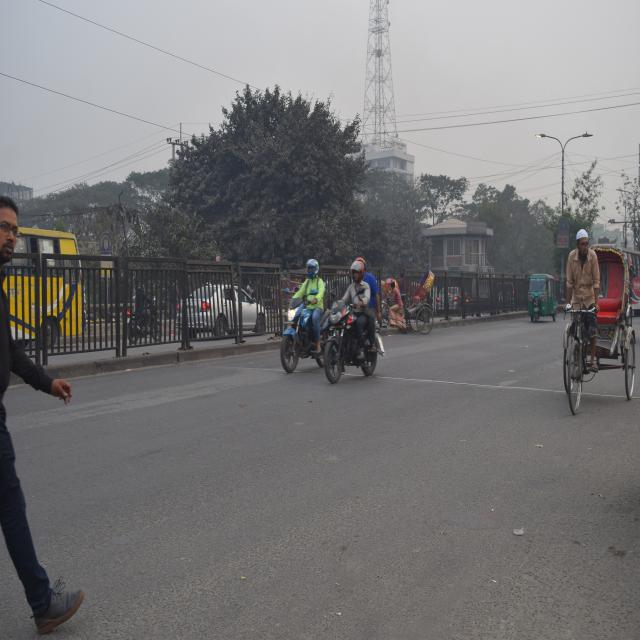bus: (0, 217, 98, 365), (622, 244, 640, 336)
car: (176, 266, 273, 348), (434, 278, 475, 323)
motorbike: (318, 304, 397, 386), (276, 284, 336, 375), (118, 294, 166, 349)
